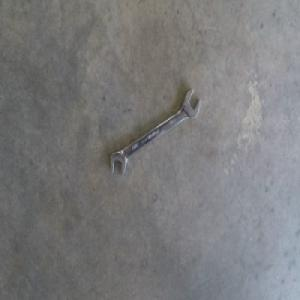Wrench: (109, 82, 199, 176)
